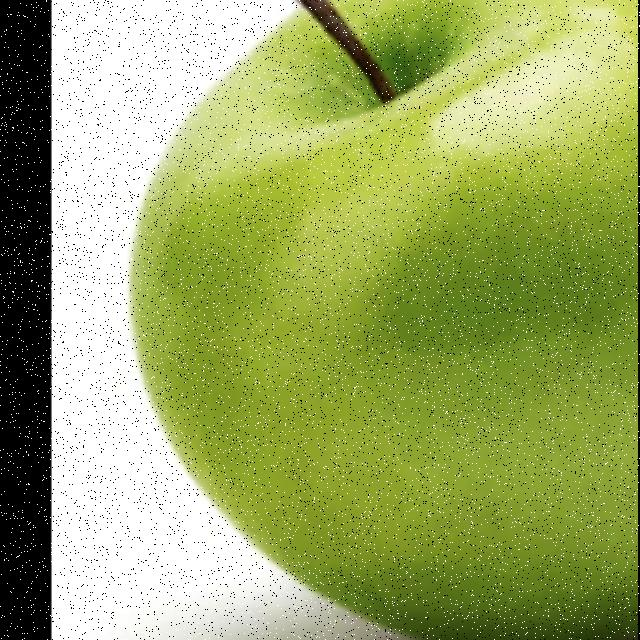Apel Segar: (105, 0, 637, 640)
